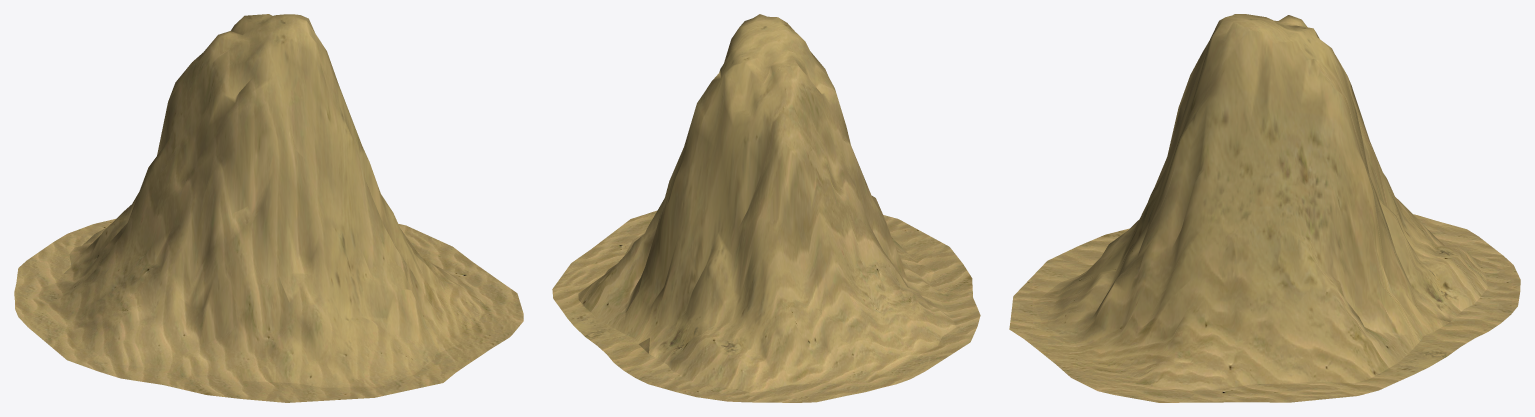
File: build_mountain_A8.FBX
3 renders of one model, left to right at view 1: azimuth 30°, elevation 25°; view 2: azimuth 150°, elevation 25°; view 3: azimuth 270°, elevation 25°, orthographic. The views are drawn at different scales.
Parts seen in each view (by area): view 1: build_mountain_A8, build_mountain_A8_edge; view 2: build_mountain_A8, build_mountain_A8_edge; view 3: build_mountain_A8, build_mountain_A8_edge.
Part boxes in pixels (x1=…): build_mountain_A8: x1=38, y1=14, x2=485, y2=387; build_mountain_A8_edge: x1=14, y1=219, x2=523, y2=402; build_mountain_A8: x1=578, y1=14, x2=956, y2=392; build_mountain_A8_edge: x1=552, y1=210, x2=980, y2=402; build_mountain_A8: x1=1034, y1=14, x2=1487, y2=390; build_mountain_A8_edge: x1=1009, y1=214, x2=1520, y2=402.
Size of what is drawn, in the model's own units: 731 by 495 by 780.
